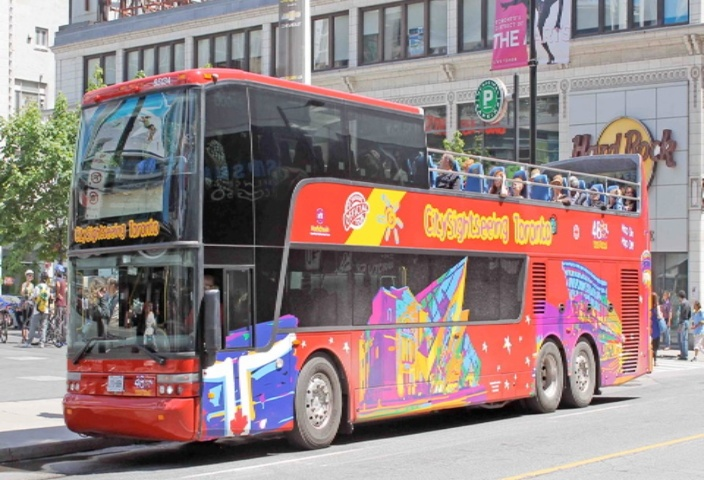bus: (50, 66, 669, 451)
